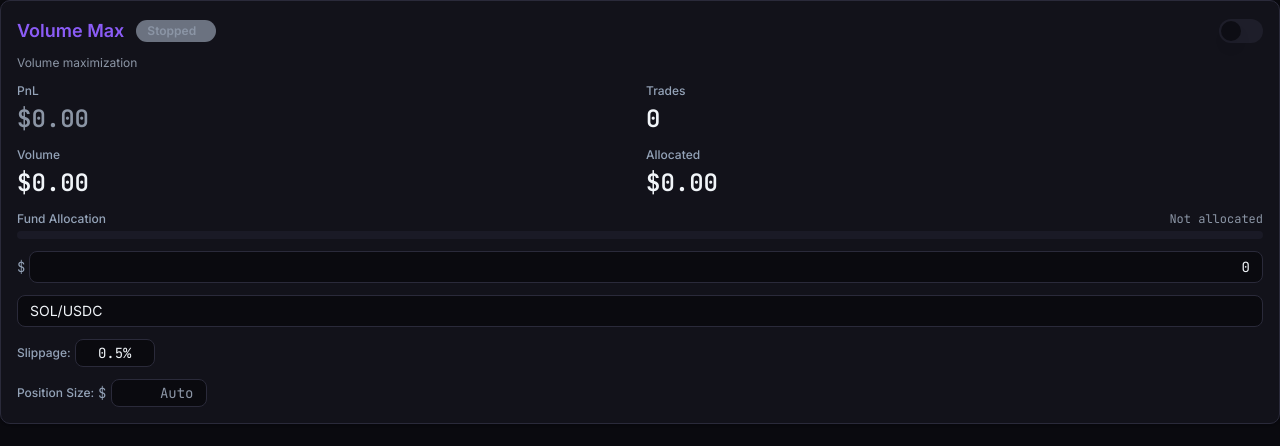
Test case: ModeCard › accessibility › pair dropdown has role group and aria-label
This screenshot has width=1280, height=446.
Step 1. Click the button with aria-label "Select trading pairs for Volume Max" → (66, 310), box [17, 295, 1263, 327]
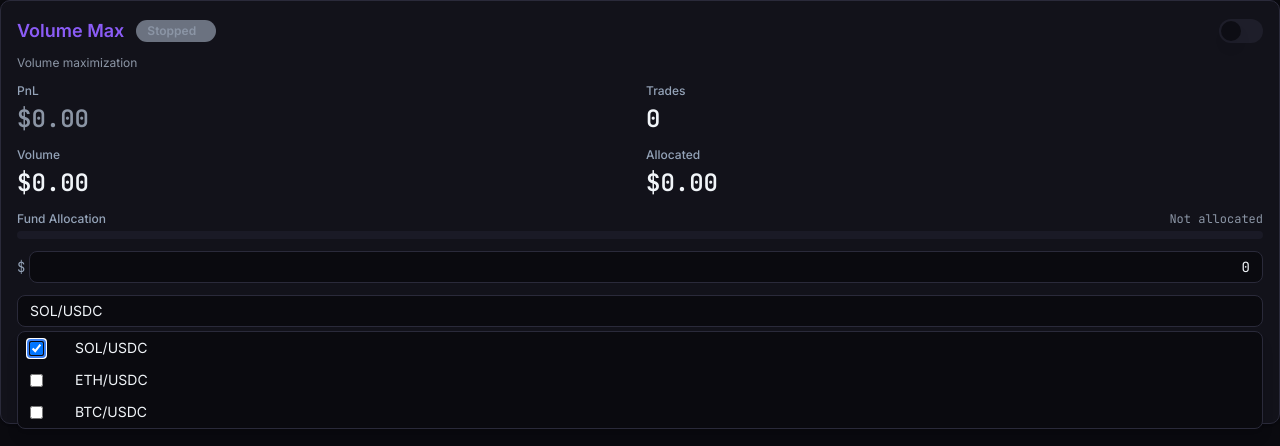
Result: the element showing "SOL/USDC ETH/USDC BTC/USDC" is shown at [17, 331, 1263, 429]
